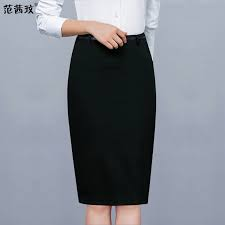F_tailored skirt: (64, 26, 158, 211)
